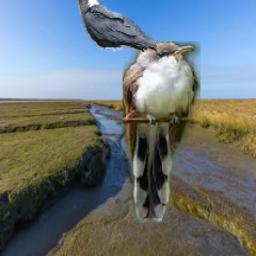Crow: (68, 0, 160, 52)
Cuckoo: (122, 43, 199, 224)
